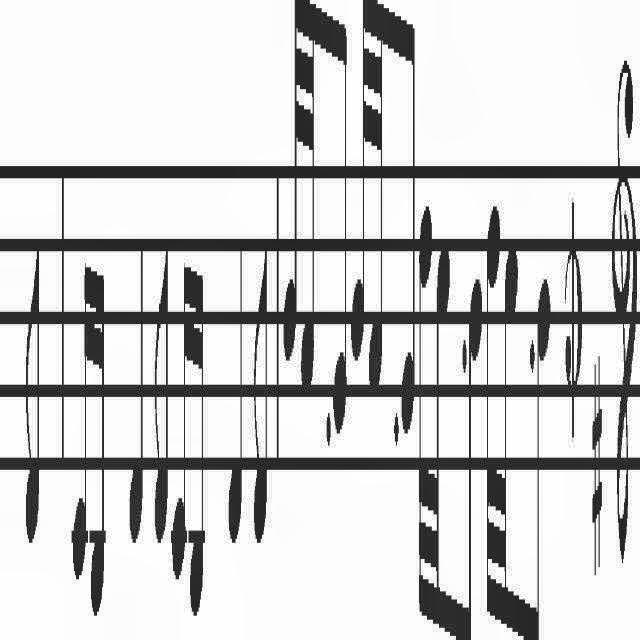Bass-clef: (611, 0, 640, 612), (639, 0, 640, 612)
Diez: (591, 348, 603, 596)
Eighth-note: (536, 263, 558, 640), (332, 4, 348, 452), (401, 0, 417, 438), (250, 214, 270, 556), (22, 216, 42, 556), (466, 227, 482, 640), (153, 217, 169, 559)
Quarter-note: (122, 189, 150, 559), (226, 216, 246, 568)
Sixteenth-note: (189, 251, 214, 640), (90, 259, 110, 640), (168, 247, 188, 626), (70, 239, 90, 593)
